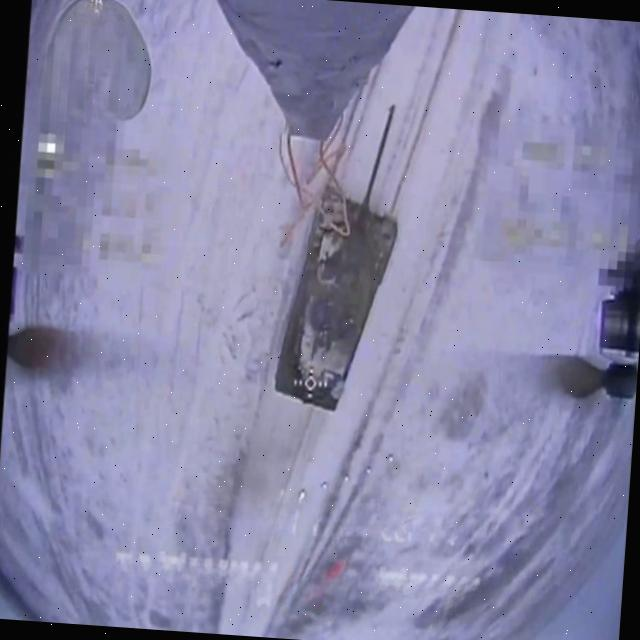MBT: (273, 98, 416, 419)
